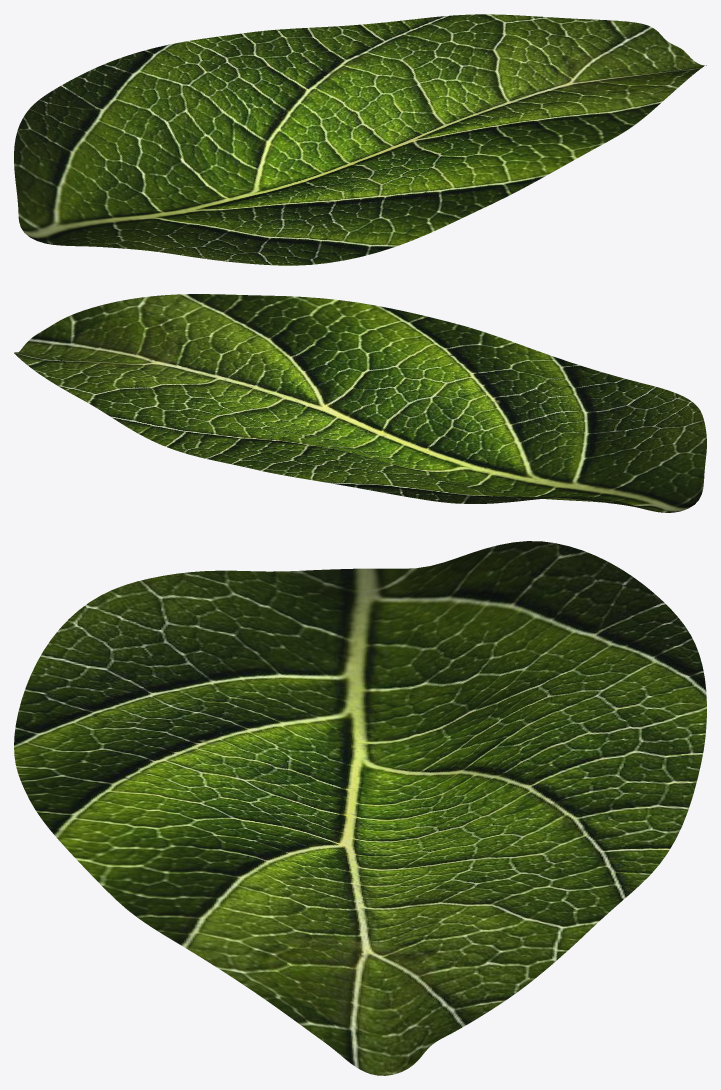
File: leaf_c5.glb
3 views of the same model, one above another, from view 1: azimuth 30°, elevation 25°; view 2: azimuth 150°, elevation 25°; view 3: azimuth 270°, elevation 25° (orthographic). The views are drawn at different scales.
Parts seen in each view (by area): view 1: Circle.022; view 2: Circle.022; view 3: Circle.022.
Boxes of the visible parts, box(x1,y1,x2,y2) form: Circle.022: box(14, 14, 706, 265); Circle.022: box(14, 294, 706, 512); Circle.022: box(14, 541, 706, 1075).
Bounding box in the file's own units: 0.9999 × 0.086 × 0.5781.
Materials: 1 (1 with a texture image).
